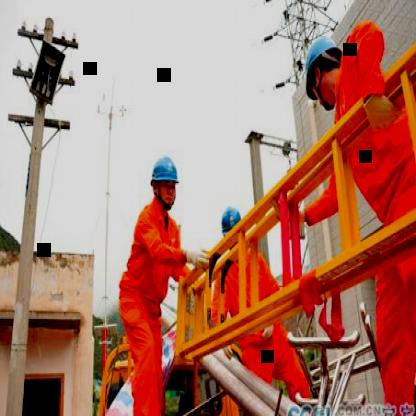helmet: (303, 25, 345, 108), (147, 150, 182, 212), (221, 208, 245, 252)
